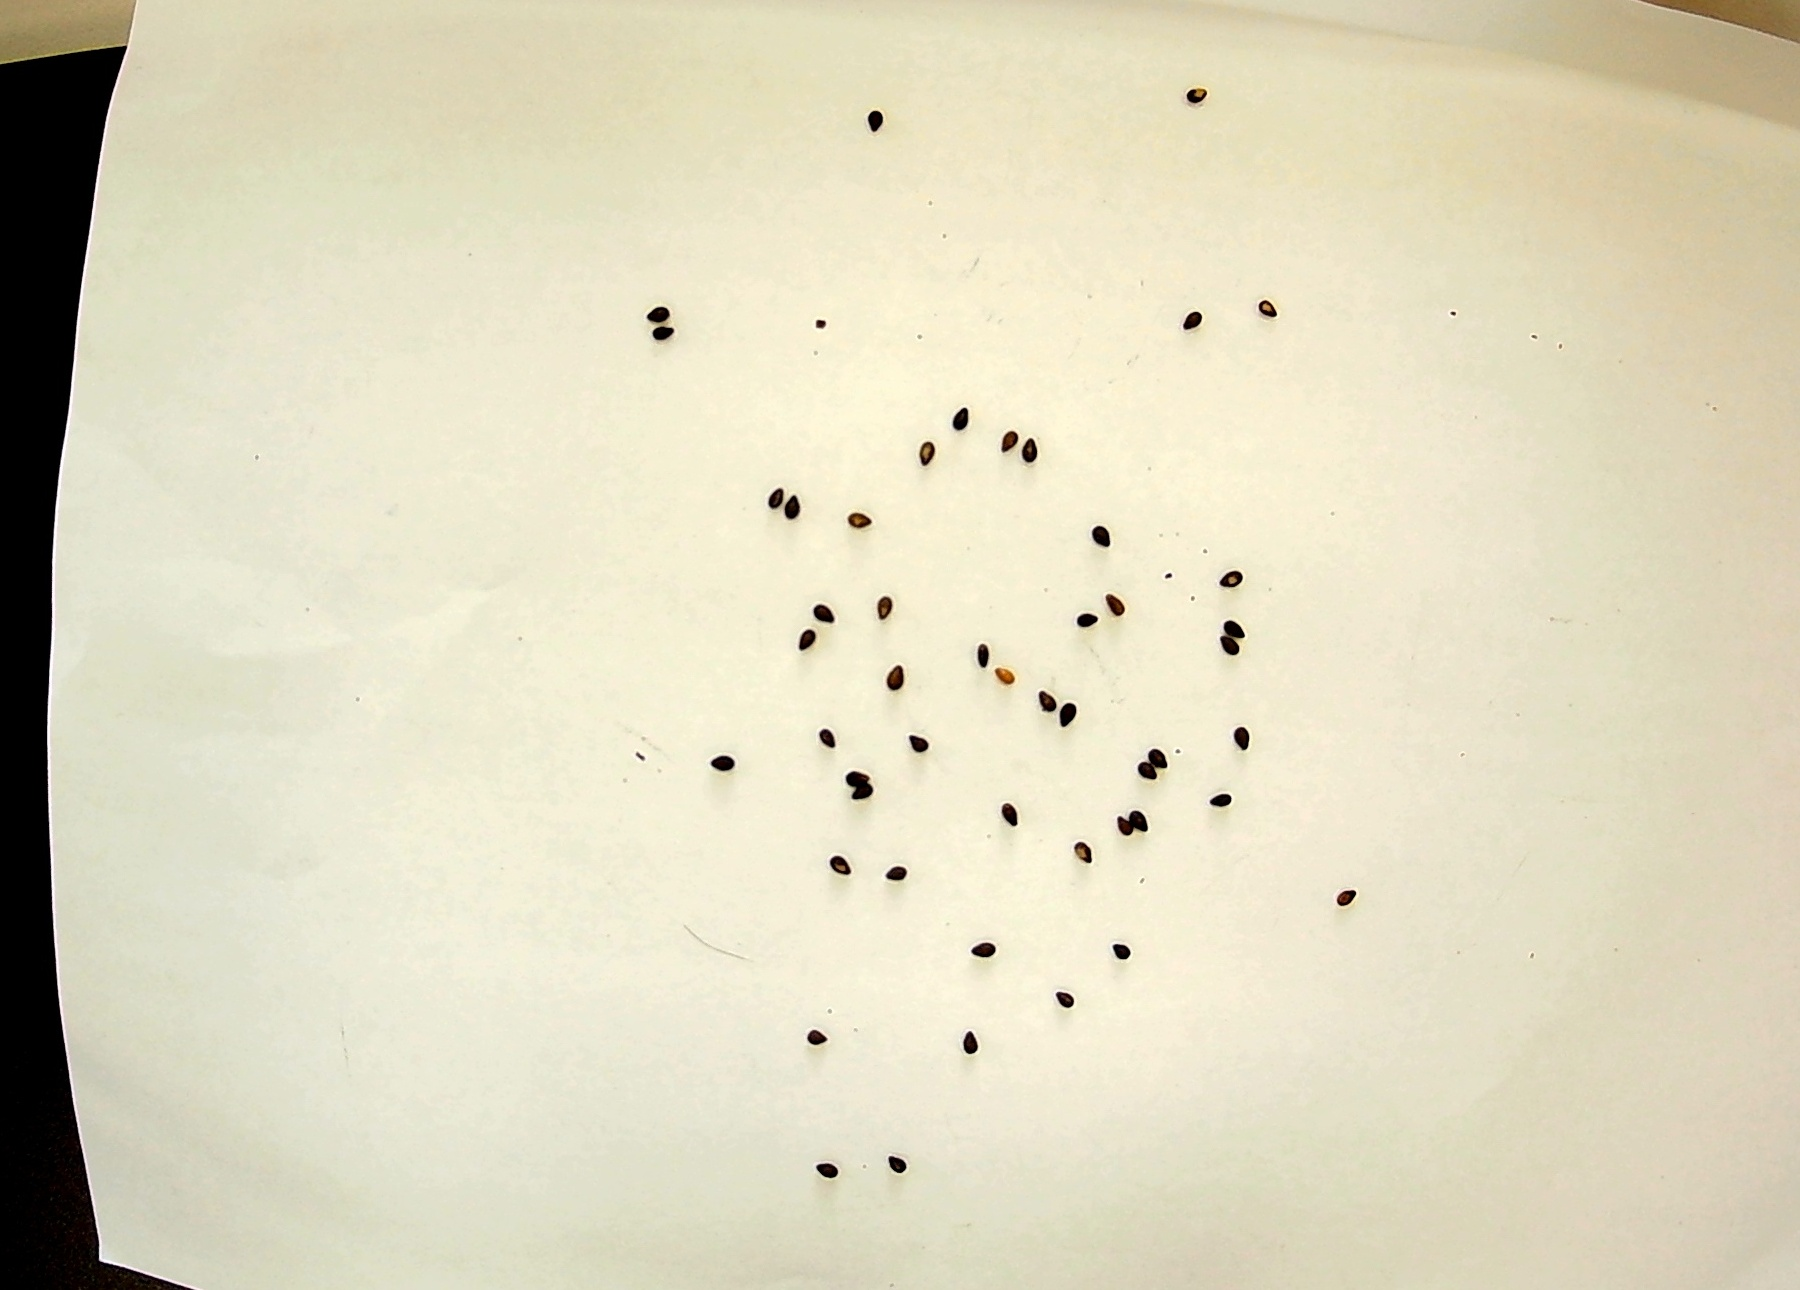sesami: (1100, 591, 1143, 625), (642, 324, 692, 350), (913, 440, 947, 477), (880, 857, 915, 894), (1178, 300, 1207, 339), (899, 727, 938, 755), (797, 1028, 836, 1055), (640, 297, 674, 329), (947, 402, 982, 433), (809, 600, 847, 628), (867, 591, 899, 623), (702, 752, 748, 775), (844, 512, 879, 542), (1221, 616, 1257, 644), (1063, 607, 1111, 628), (1086, 517, 1111, 556), (963, 934, 999, 961), (968, 637, 993, 674), (861, 106, 890, 138), (1247, 296, 1282, 322), (995, 804, 1033, 828), (794, 620, 820, 653), (1213, 639, 1257, 659), (1000, 420, 1024, 457), (1228, 719, 1252, 755), (826, 857, 862, 881), (1331, 882, 1360, 912), (961, 1028, 985, 1062), (1206, 570, 1254, 586), (1033, 683, 1058, 715), (809, 1156, 841, 1181), (885, 1153, 915, 1178), (1108, 810, 1134, 838), (1148, 741, 1178, 766), (1072, 838, 1095, 868), (1112, 941, 1144, 963), (1133, 759, 1167, 780), (848, 786, 882, 807), (816, 722, 840, 751), (1026, 436, 1047, 468), (1049, 988, 1080, 1009), (1133, 806, 1158, 831), (887, 665, 908, 694), (765, 479, 781, 515), (1185, 88, 1210, 112), (786, 489, 802, 524), (846, 769, 878, 787), (998, 666, 1019, 692), (1206, 792, 1233, 811), (1059, 704, 1080, 729)
